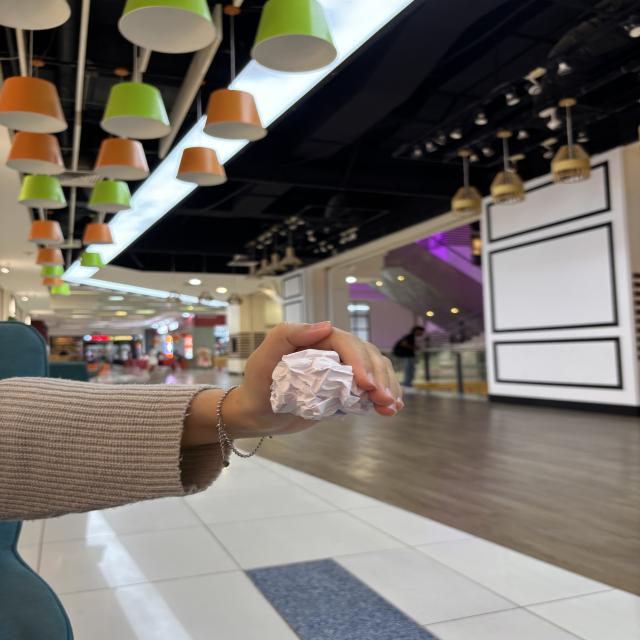crumpled_paper: (261, 343, 378, 424)
